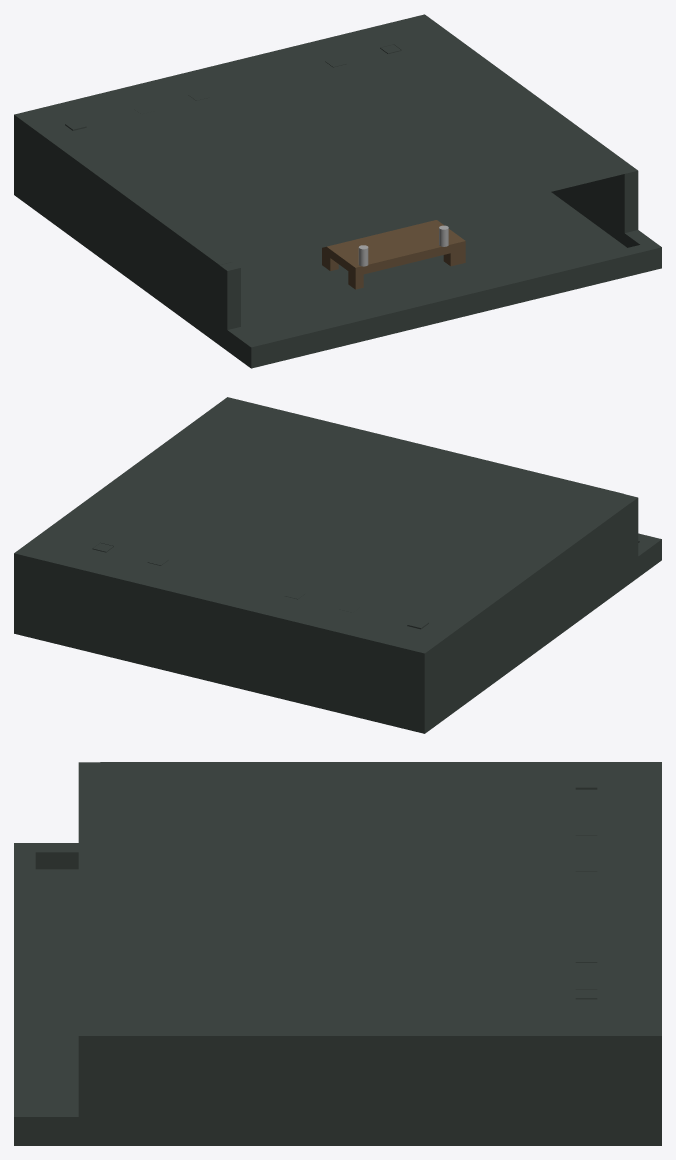
The model's file is mayoneso.fbx.
3 renders of one model, top to bottom at view 1: azimuth 30°, elevation 25°; view 2: azimuth 150°, elevation 25°; view 3: azimuth 270°, elevation 25°, orthographic. The views are drawn at different scales.
Parts seen in each view (by area): view 1: Atico, mesa; view 2: Atico; view 3: Atico.
Boxes of the visible parts, left/top/right/bottom form: Atico: left=14, top=14, right=661, bottom=368; mesa: left=322, top=220, right=465, bottom=289; Atico: left=14, top=397, right=661, bottom=733; Atico: left=14, top=762, right=661, bottom=1145.
Size of the model in its own units: 4870 by 926 by 4870.
